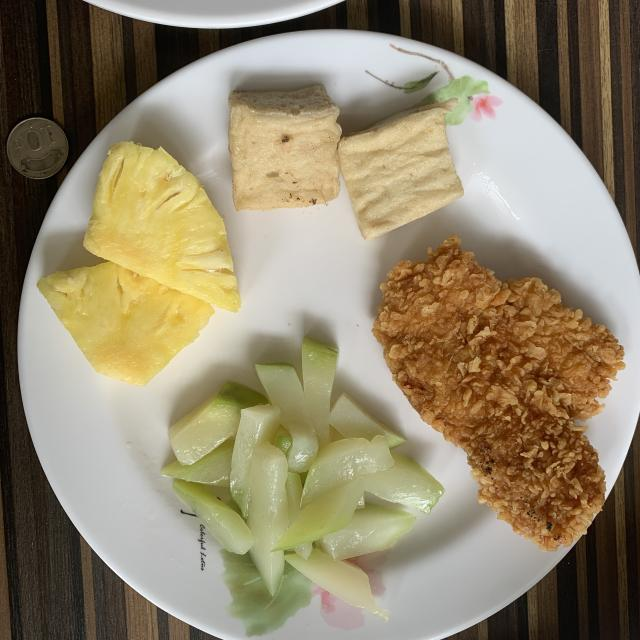coin: (6, 118, 69, 179)
creamy tofu -without sauce-: (229, 85, 464, 240)
fried chicken cutlet: (374, 236, 625, 550)
pineapple: (38, 142, 240, 385)
